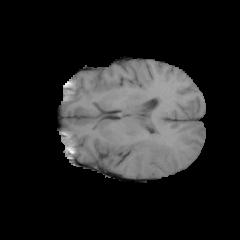glioma: (133, 133, 180, 171)
